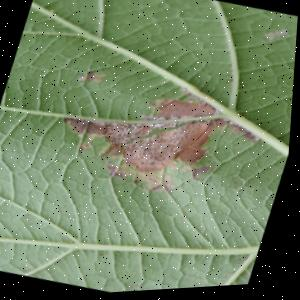Folha: (0, 0, 300, 300)
Fungo: (46, 62, 273, 217), (57, 66, 225, 172), (116, 98, 231, 192), (58, 92, 185, 163), (138, 83, 223, 144), (59, 107, 137, 151), (137, 109, 185, 137), (76, 66, 109, 89), (262, 26, 291, 48)
